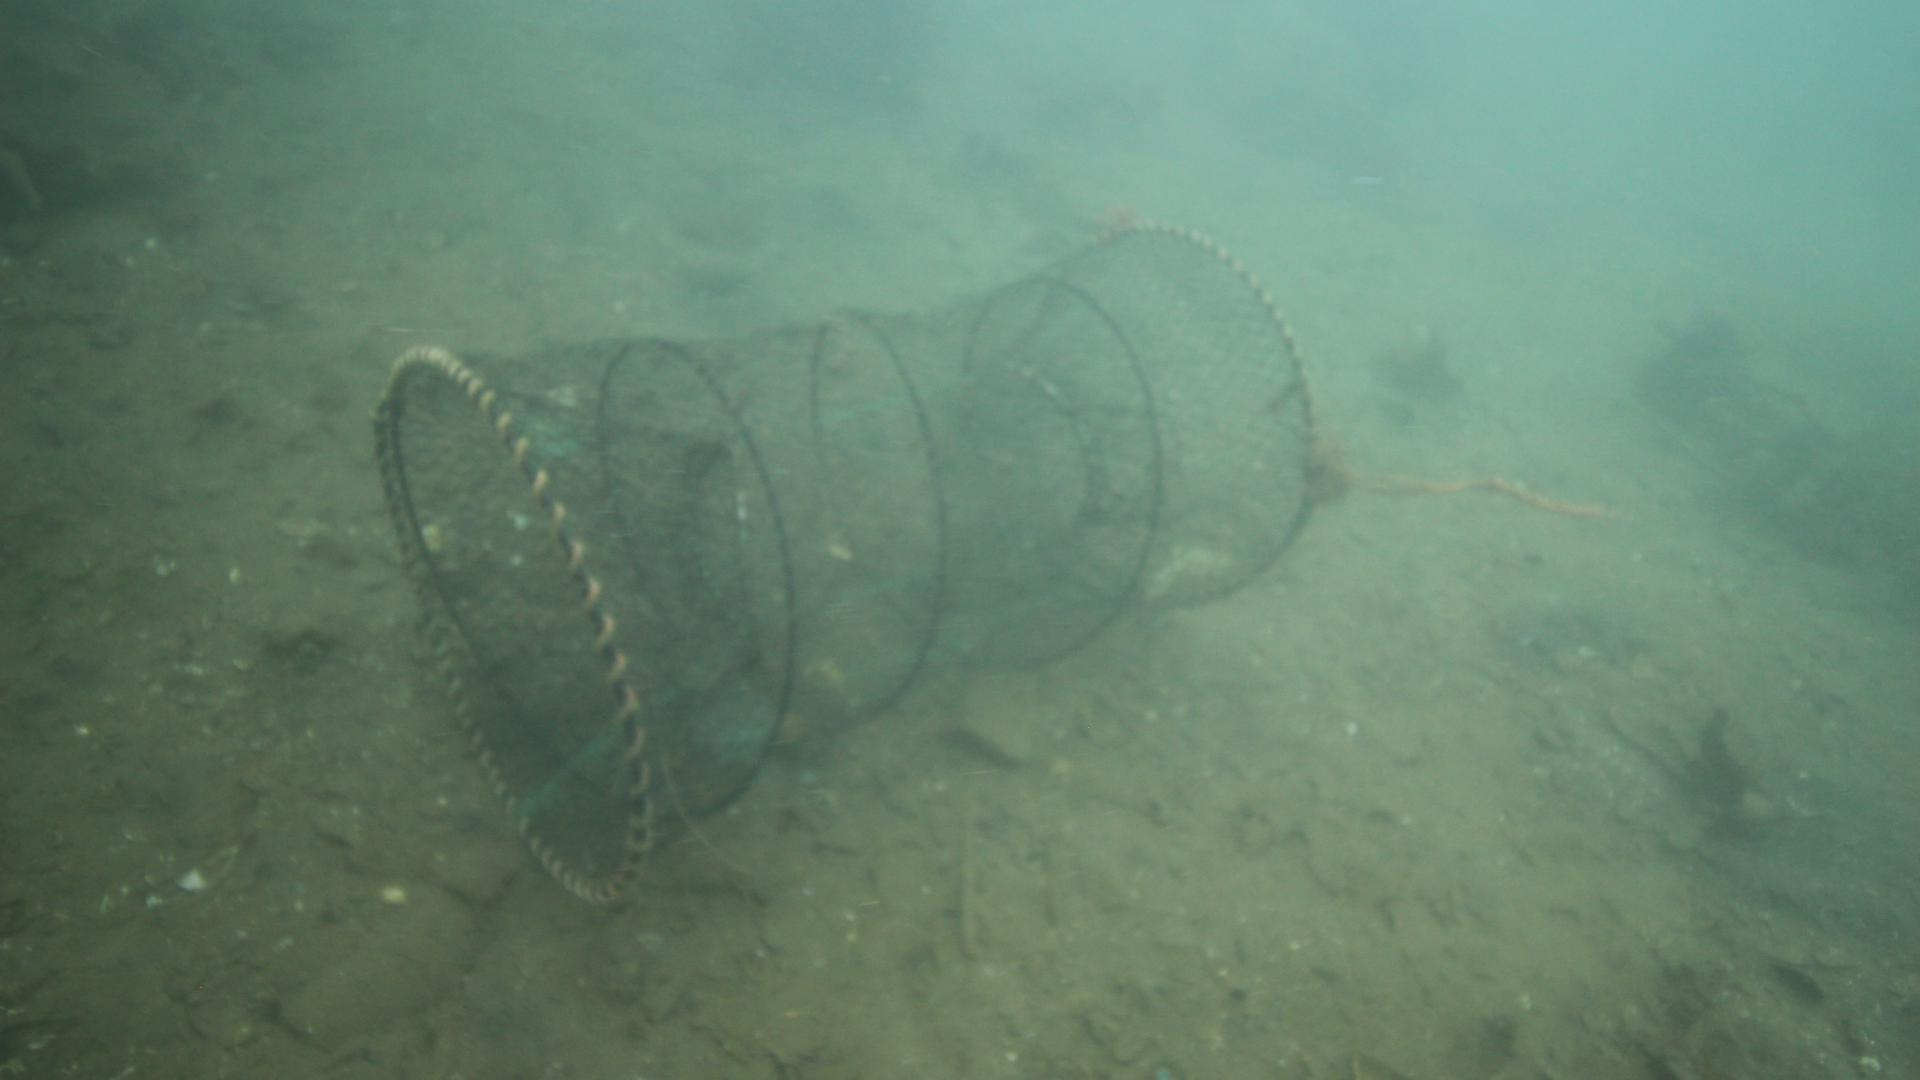bundle of ropes: (1323, 455, 1619, 520)
spring fish trap: (375, 220, 1327, 914)
